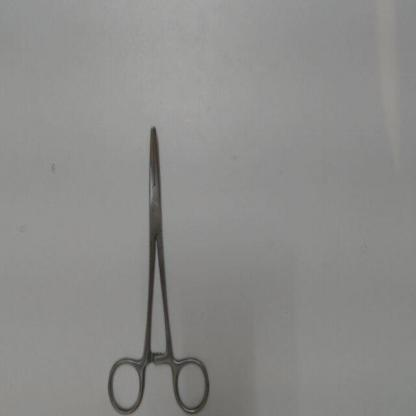Crile Artery Forceps: (100, 114, 213, 414)
